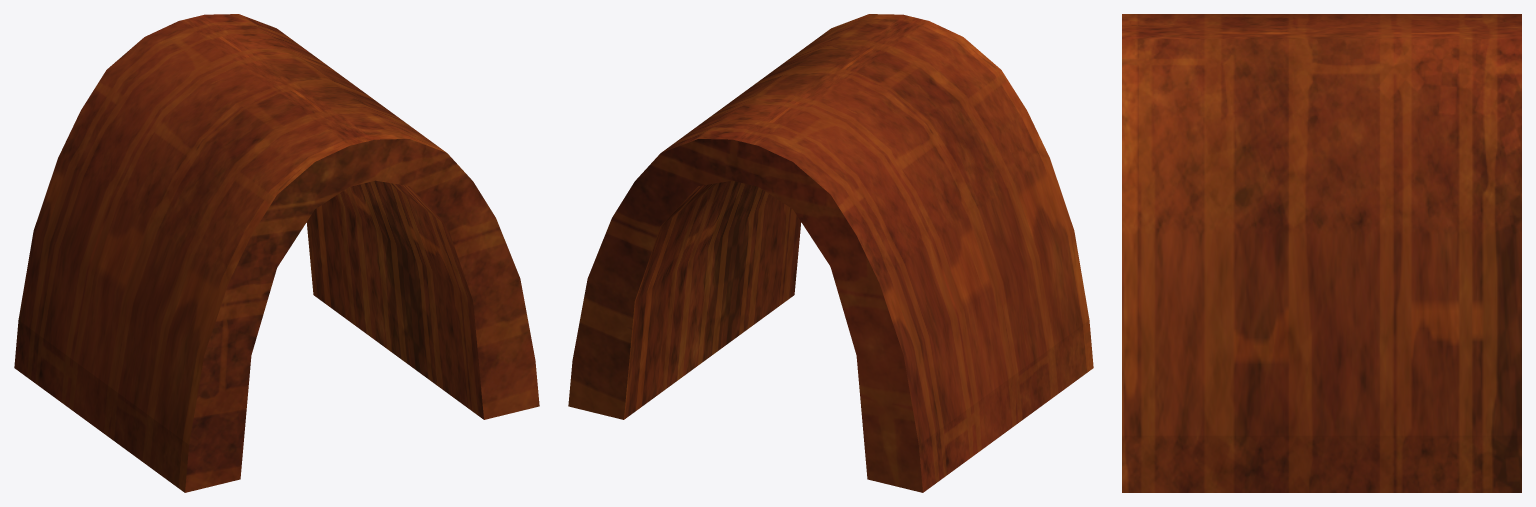
Rendered from arch.fbx.
3 views of the same model, side by side, from view 1: azimuth 30°, elevation 25°; view 2: azimuth 150°, elevation 25°; view 3: azimuth 270°, elevation 25° (orthographic). The views are drawn at different scales.
Visible parts, largest first — view 1: arch; view 2: arch; view 3: arch.
Boxes of the visible parts, x1,y1,x2,y2 form: arch: (14, 14, 539, 492); arch: (568, 14, 1093, 492); arch: (1122, 14, 1521, 492).
Size of the model in its own units: 20.31 by 16.79 by 16.92.
1 material, 1 textured.
